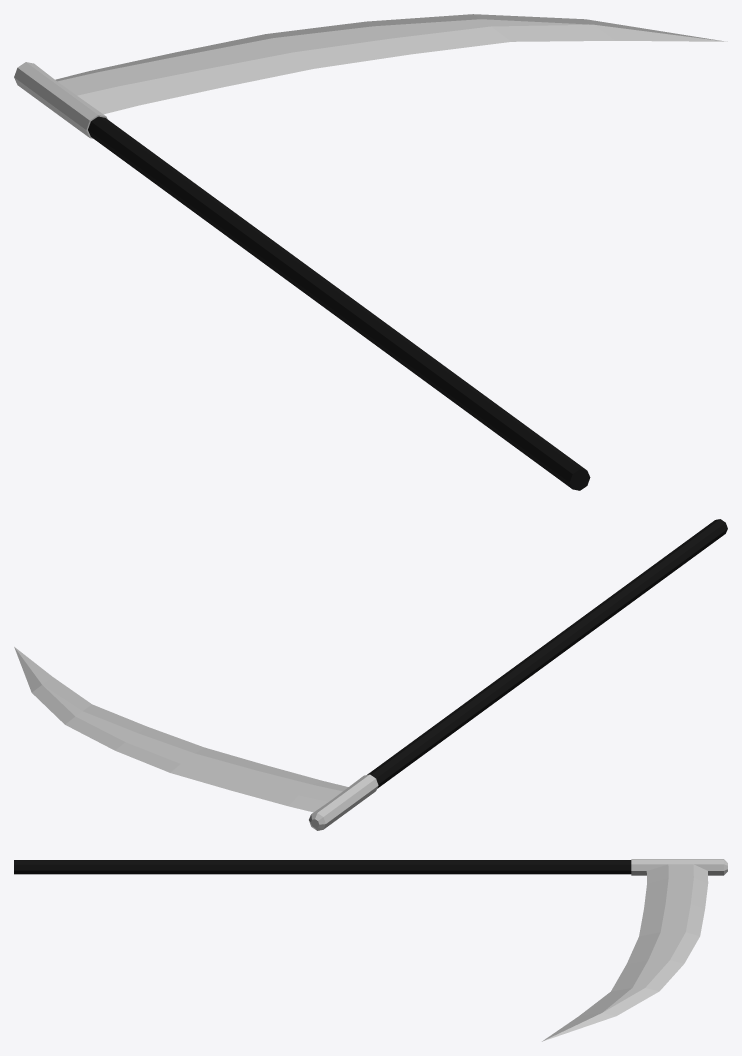
The model's file is Scythe.fbx.
3 renders of one model, top to bottom at view 1: azimuth 30°, elevation 25°; view 2: azimuth 150°, elevation 25°; view 3: azimuth 270°, elevation 25°, orthographic. The views are drawn at different scales.
Parts seen in each view (by area): view 1: Scythe; view 2: Scythe; view 3: Scythe.
Part boxes in pixels (box(x1,y1,x2,y2)): Scythe: box(14, 14, 727, 490); Scythe: box(14, 519, 727, 830); Scythe: box(14, 859, 727, 1041).
Size of the model in its own units: 780 by 32.3 by 1317.
